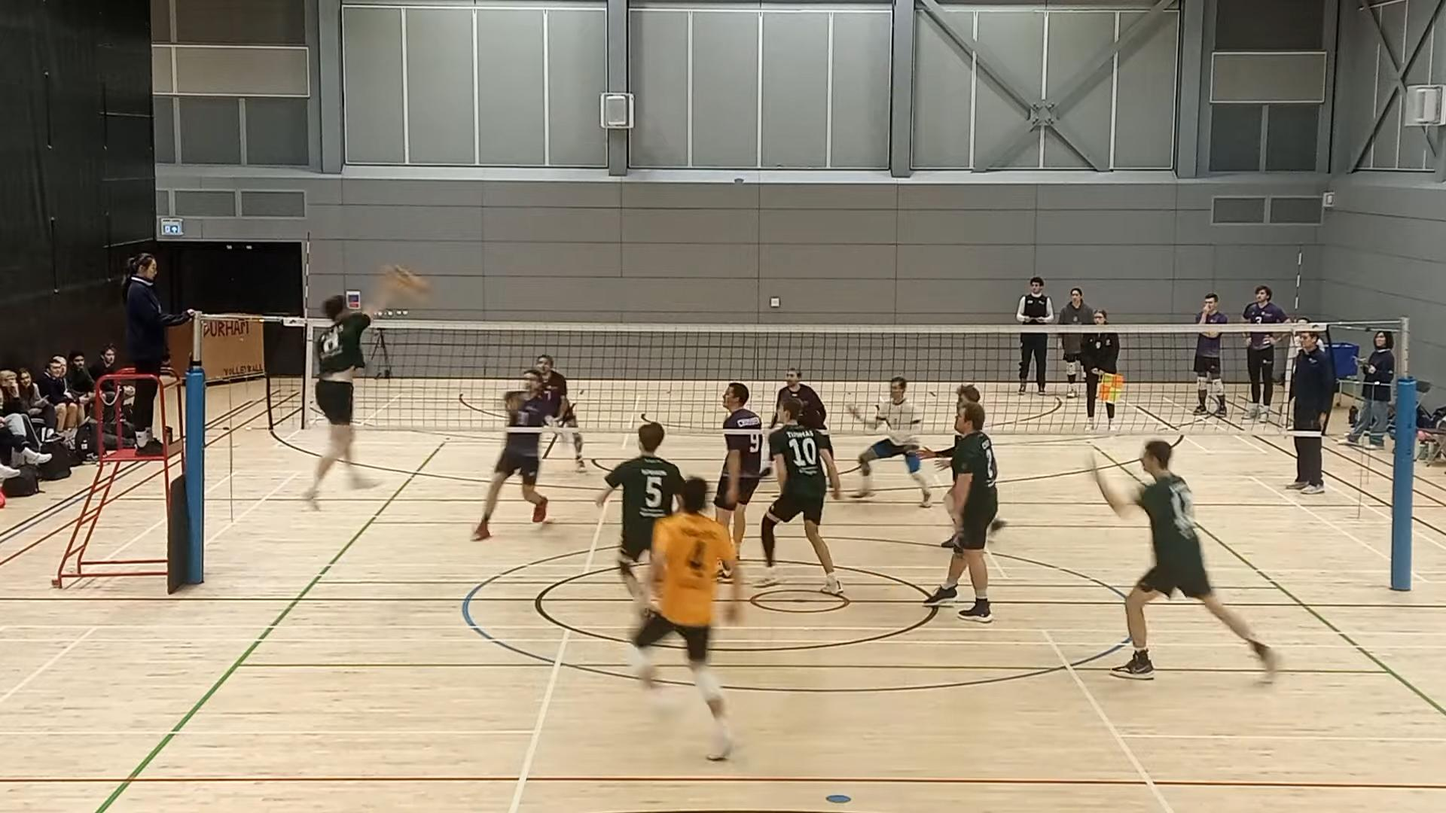attacco: (298, 268, 393, 511)
